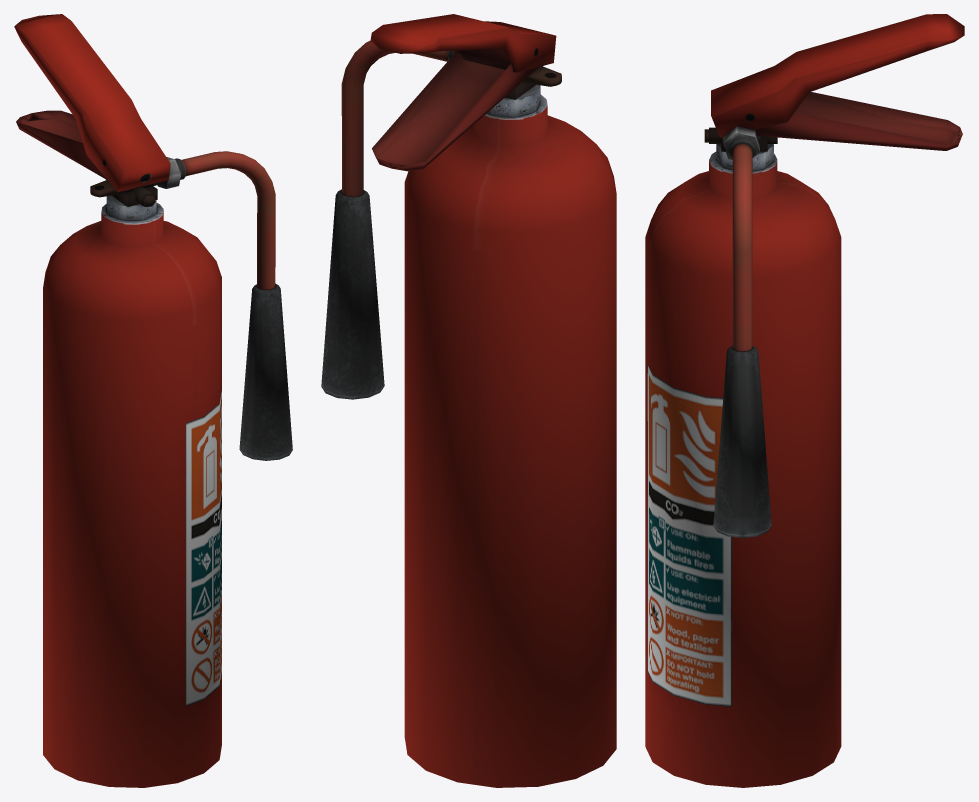
Rendered from fire_extinguisher_co2.fbx.
The picture shows the model from 3 angles, left to right: view 1: azimuth 30°, elevation 25°; view 2: azimuth 150°, elevation 25°; view 3: azimuth 270°, elevation 25°; orthographic projection. The views are drawn at different scales.
Visible parts, largest first — view 1: FireExtinguisher, Extremity, Tube; view 2: FireExtinguisher, Extremity, Tube; view 3: FireExtinguisher, Extremity, Tube.
Boxes of the visible parts, bbox=[...] form: FireExtinguisher: bbox=[14, 14, 221, 787]; Extremity: bbox=[239, 283, 292, 460]; Tube: bbox=[181, 151, 275, 289]; FireExtinguisher: bbox=[370, 14, 616, 787]; Extremity: bbox=[321, 189, 384, 399]; Tube: bbox=[341, 40, 448, 196]; FireExtinguisher: bbox=[645, 14, 964, 787]; Extremity: bbox=[713, 345, 771, 538]; Tube: bbox=[732, 143, 752, 351].
Bounding box in the file's own units: 0.2282 × 0.6156 × 0.2476.
Materials: 1 (1 with a texture image).
